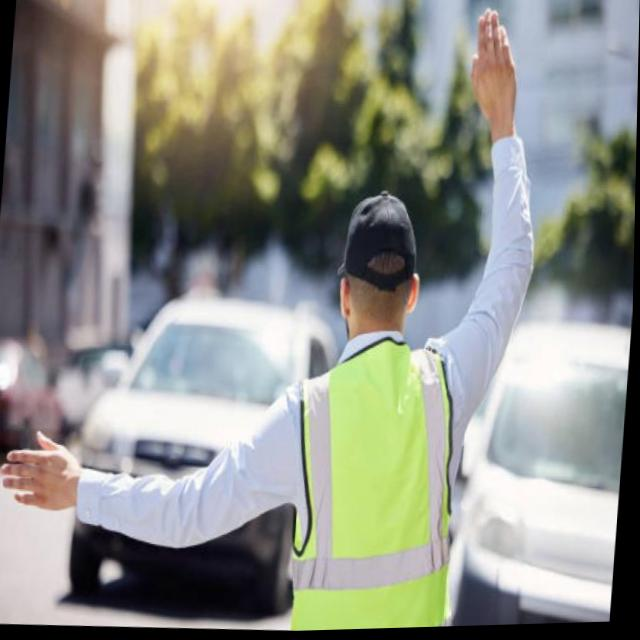no helmet: (312, 164, 456, 357)
